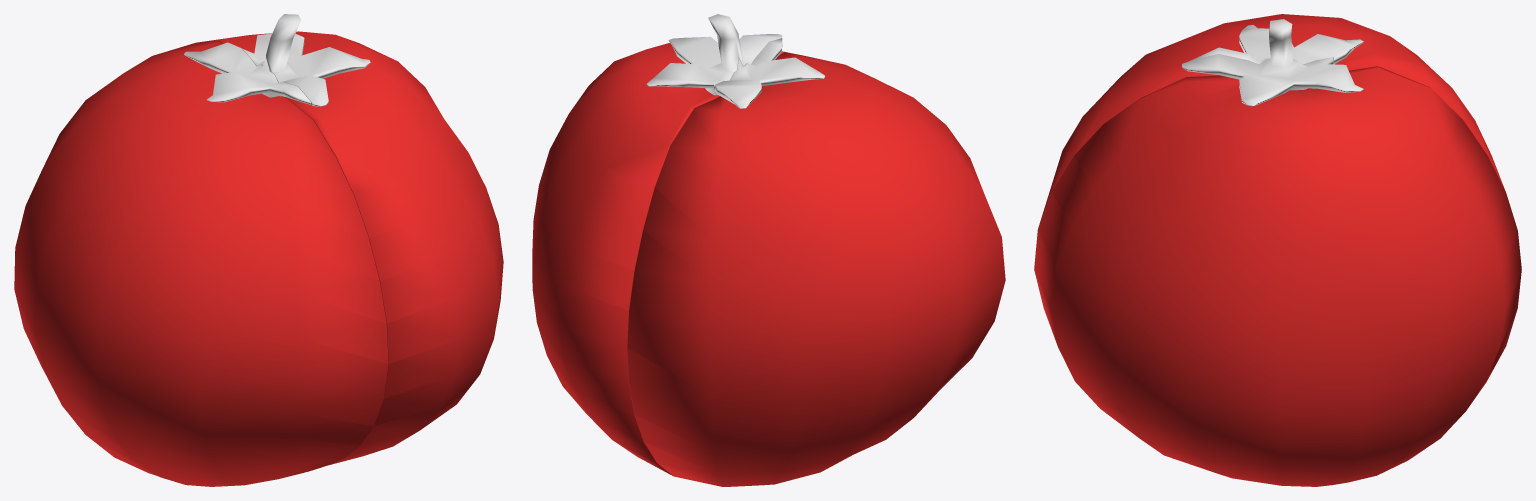
The model's file is tomato_CUT.fbx.
3 views of the same model, side by side, from view 1: azimuth 30°, elevation 25°; view 2: azimuth 150°, elevation 25°; view 3: azimuth 270°, elevation 25° (orthographic). The views are drawn at different scales.
Visible parts, largest first — view 1: tomato right, tomato left, stem left, stem right; view 2: tomato right, tomato left, stem left, stem right; view 3: tomato left, tomato right, stem left, stem right.
Boxes of the visible parts, x1,y1,x2,y2 form: tomato right: [14, 41, 388, 486]; tomato left: [195, 31, 503, 465]; stem left: [242, 14, 370, 106]; stem right: [184, 42, 311, 104]; tomato right: [627, 52, 1005, 486]; tomato left: [532, 43, 804, 476]; stem left: [646, 14, 782, 95]; stem right: [715, 38, 825, 108]; tomato left: [1034, 66, 1521, 486]; tomato right: [1038, 14, 1505, 228]; stem left: [1182, 19, 1363, 106]; stem right: [1192, 25, 1363, 64].
Bounding box in the file's own units: 293 × 290 × 279.
